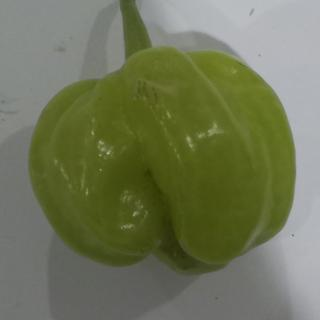Grade-B: (24, 43, 301, 276)
